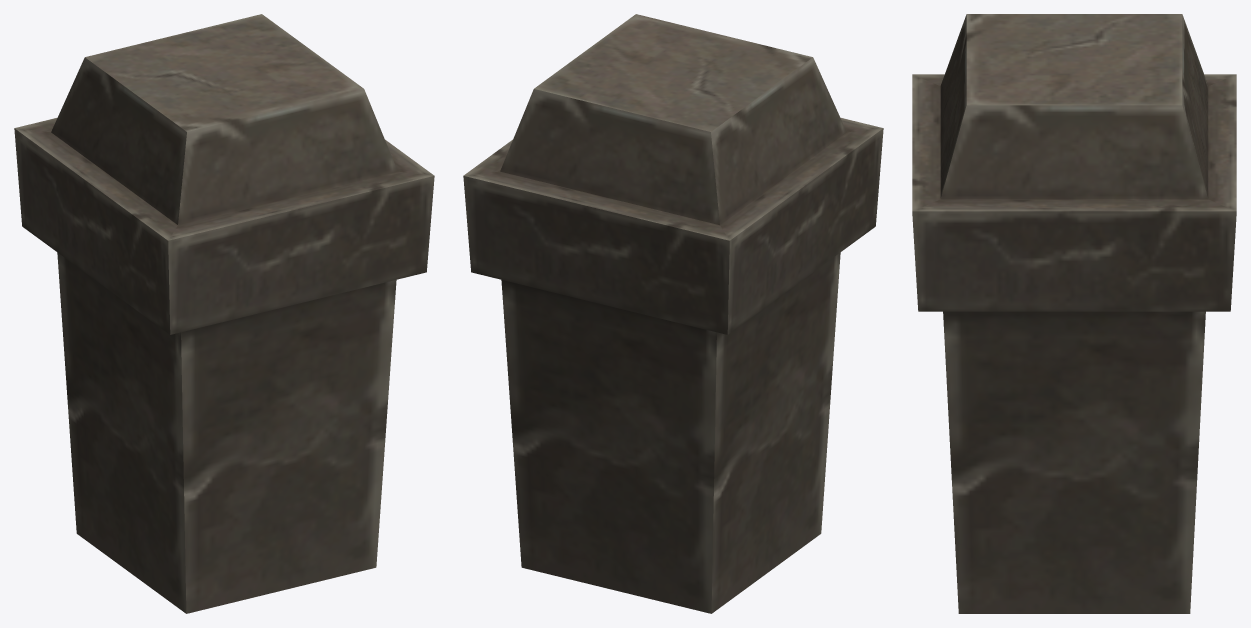
File: building_city_matouzhuzi2.FBX
3 renders of one model, left to right at view 1: azimuth 30°, elevation 25°; view 2: azimuth 150°, elevation 25°; view 3: azimuth 270°, elevation 25°, orthographic. The views are drawn at different scales.
Parts seen in each view (by area): view 1: building_city_matouzhuzi2; view 2: building_city_matouzhuzi2; view 3: building_city_matouzhuzi2.
Part boxes in pixels (x1,y1,x2,y2): building_city_matouzhuzi2: [14, 14, 434, 613]; building_city_matouzhuzi2: [463, 14, 883, 613]; building_city_matouzhuzi2: [912, 14, 1236, 613].
Bounding box in the file's own units: 1.02 × 1.02 × 1.76.
